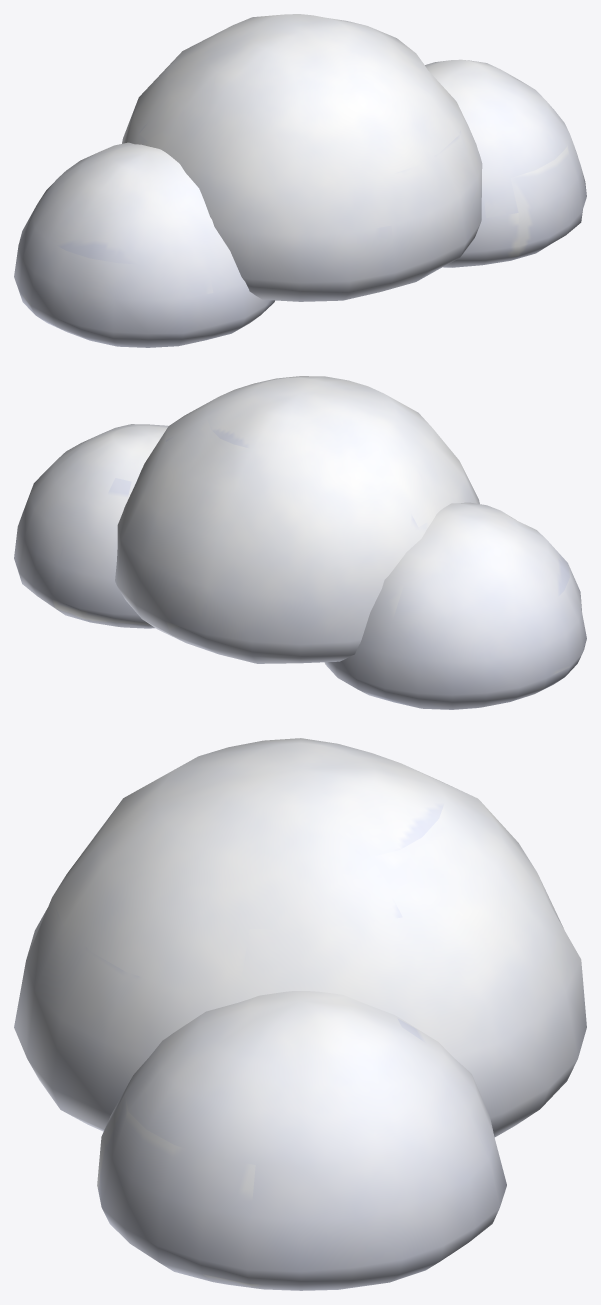
Rendered from planeta2_nube1.obj.
3 renders of one model, top to bottom at view 1: azimuth 30°, elevation 25°; view 2: azimuth 150°, elevation 25°; view 3: azimuth 270°, elevation 25°, orthographic. The views are drawn at different scales.
Visible parts, largest first — view 1: planeta2_nube1; view 2: planeta2_nube1; view 3: planeta2_nube1.
Boxes of the visible parts, left/top/right/bottom form: planeta2_nube1: left=14, top=14, right=586, bottom=347; planeta2_nube1: left=14, top=376, right=586, bottom=709; planeta2_nube1: left=14, top=738, right=586, bottom=1290.
Bounding box in the file's own units: 4.61 × 2.05 × 2.82.
